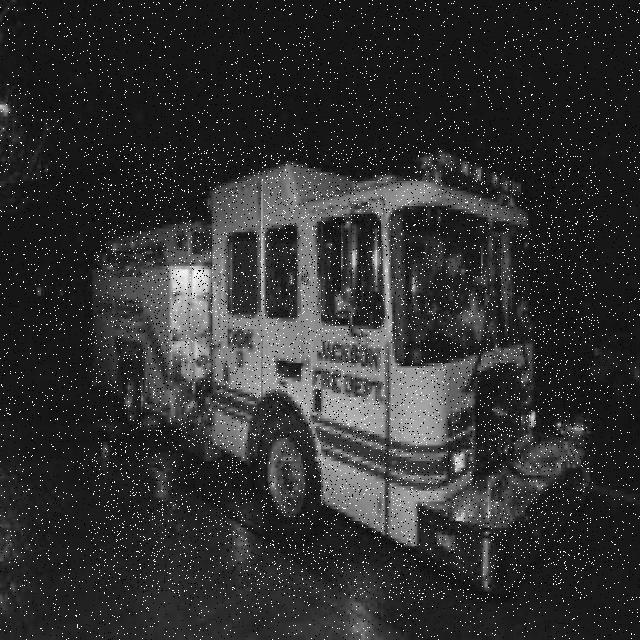Fire Truck: (92, 147, 595, 599)
